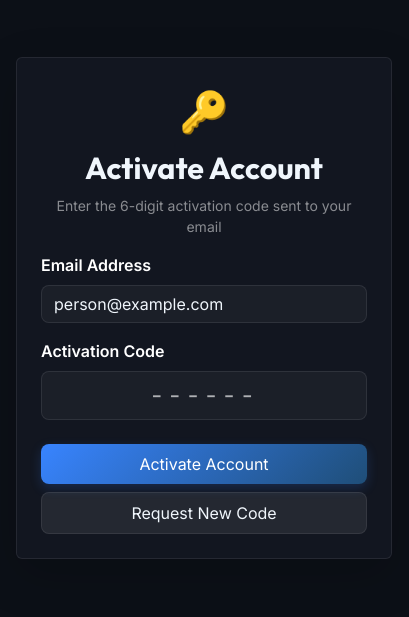
Test: restores the pending email after reopening and displays the server limit message
Type "123456" into the field labelled "Activation Code". click: (204, 395)
box: x1=41 y1=371 x2=367 y2=420
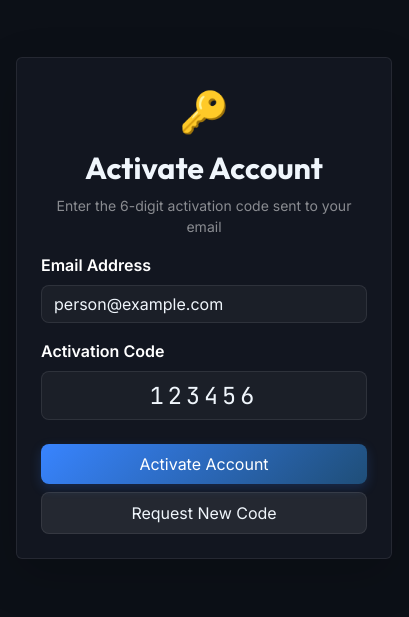
Click the button "Activate Account". click: (204, 464)
box: x1=41 y1=444 x2=367 y2=484
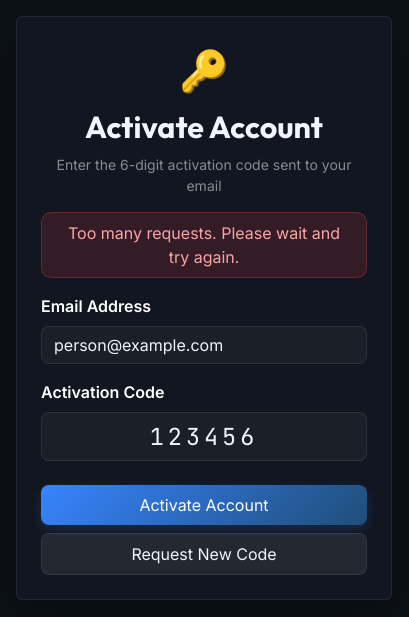
Expected: the button "Activate Account" is enabled, x1=41 y1=485 x2=367 y2=525
Expected: the text "Too many requests. Please wait and try again." is shown, x1=41 y1=212 x2=367 y2=278
